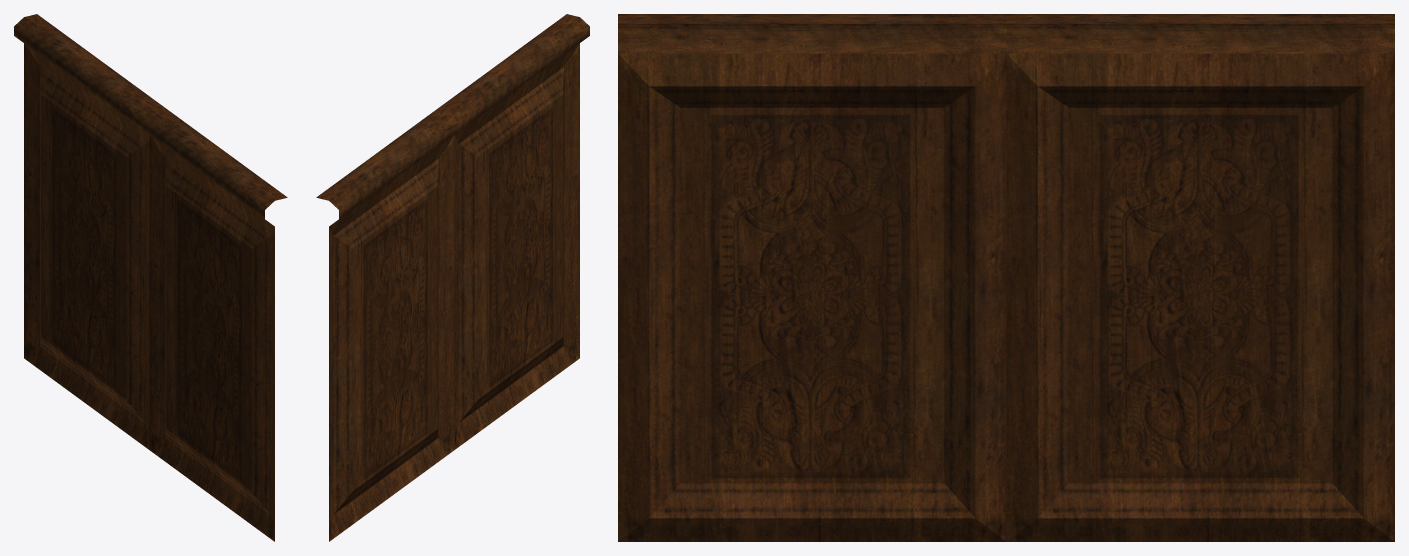
Rendered from wood_panneling_small.DAE.
3 views of the same model, side by side, from view 1: azimuth 30°, elevation 25°; view 2: azimuth 150°, elevation 25°; view 3: azimuth 270°, elevation 25° (orthographic). The views are drawn at different scales.
Visible parts, largest first — view 1: Box002; view 2: Box002; view 3: Box002.
Boxes of the visible parts, x1=… form: Box002: x1=14, y1=14, x2=287, y2=541; Box002: x1=316, y1=14, x2=589, y2=541; Box002: x1=618, y1=14, x2=1394, y2=541.
Bounding box in the file's own units: 0.1061 × 1.5 × 2.
